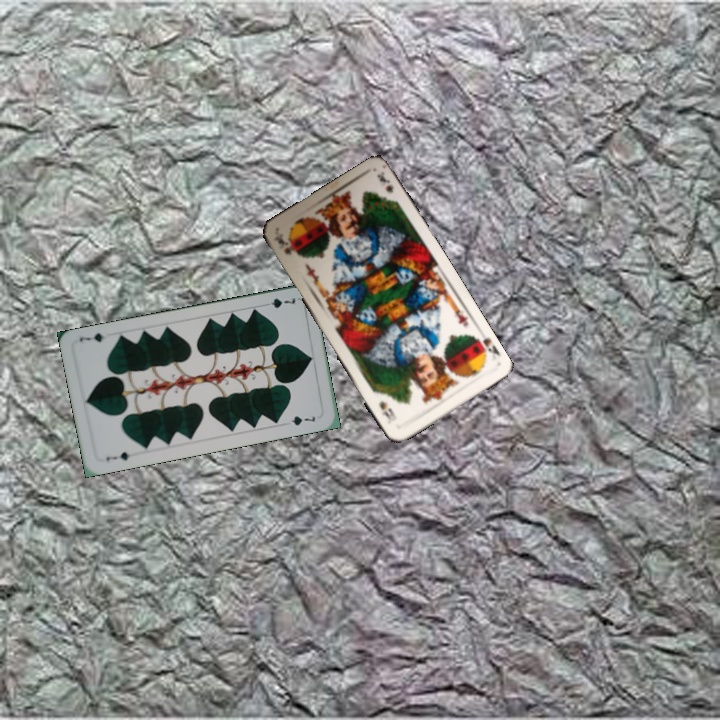G7: (259, 294, 298, 311), (102, 448, 132, 463)
SK: (470, 332, 502, 359), (269, 230, 296, 258)
